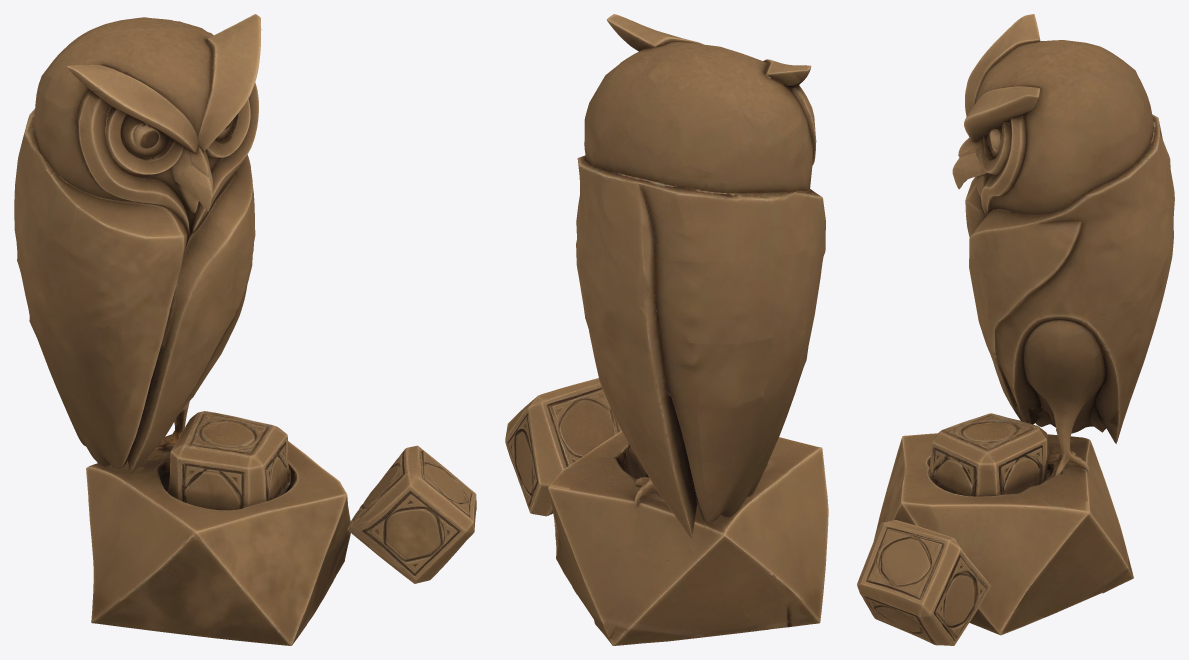
Rendered from fig-modelle.glb.
The picture shows the model from 3 angles, left to right: view 1: azimuth 30°, elevation 25°; view 2: azimuth 150°, elevation 25°; view 3: azimuth 270°, elevation 25°; orthographic projection. The views are drawn at different scales.
Visible parts, largest first — view 1: Mesh_0; view 2: Mesh_0; view 3: Mesh_0.
Boxes of the visible parts, x1,y1,x2,y2 form: Mesh_0: (14,14,476,645); Mesh_0: (505,14,828,645); Mesh_0: (857,14,1174,645).
Bounding box in the file's own units: 1.32 × 1.9 × 1.08.
Materials: 1 (1 with a texture image).
